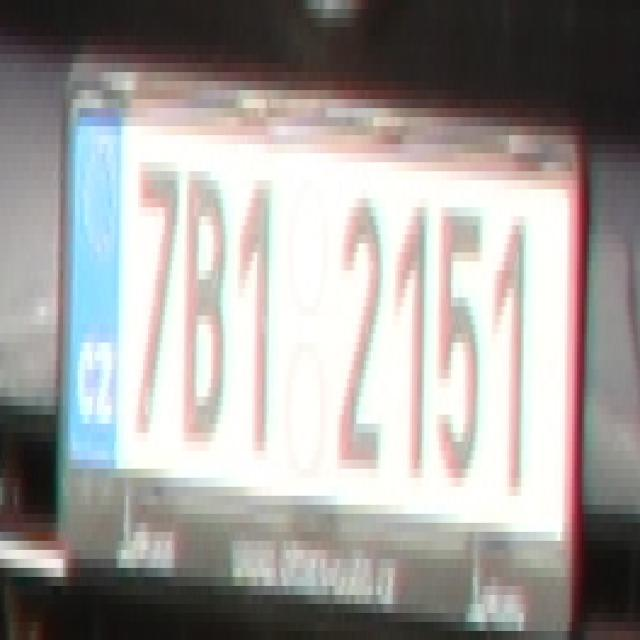1: (233, 171, 269, 460), (492, 225, 524, 514), (393, 198, 424, 469)
2: (332, 198, 383, 469)
5: (434, 189, 482, 478)
7: (131, 153, 174, 442)
B: (184, 153, 226, 442)
